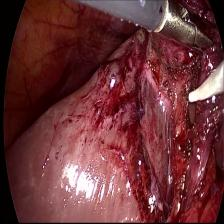Grasper: (147, 3, 219, 57)
Hook: (183, 70, 224, 112)
